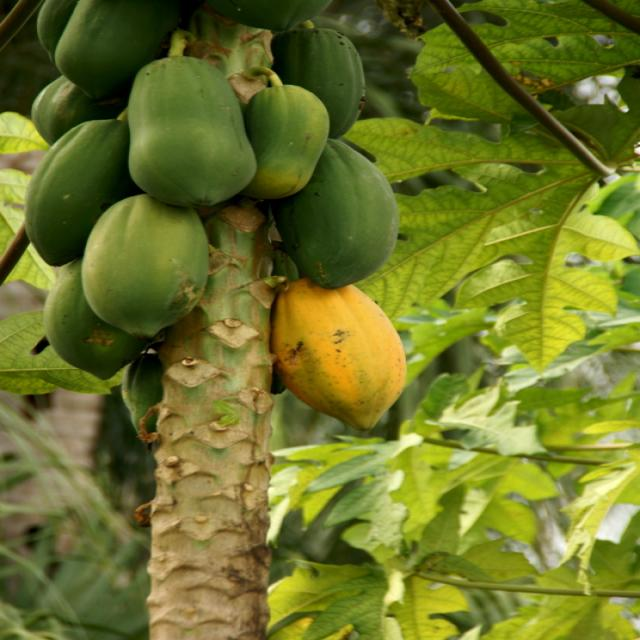Pepaya rippen: (258, 274, 415, 434), (254, 84, 332, 201)
Pepaya unrippen: (121, 58, 258, 210), (80, 198, 214, 337), (21, 123, 147, 266), (274, 155, 396, 282)
